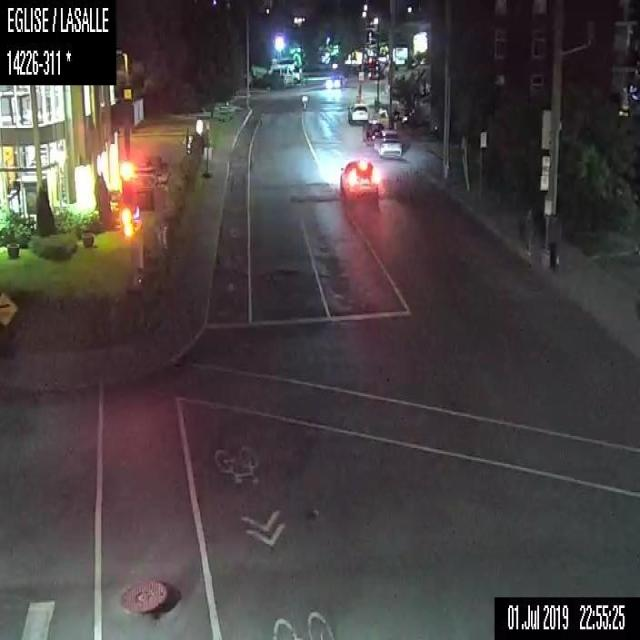pedestrian: (520, 203, 533, 256)
vehicle: (338, 157, 379, 199), (268, 59, 302, 83), (374, 131, 402, 157), (362, 116, 385, 143), (346, 100, 368, 127), (324, 68, 344, 88)
